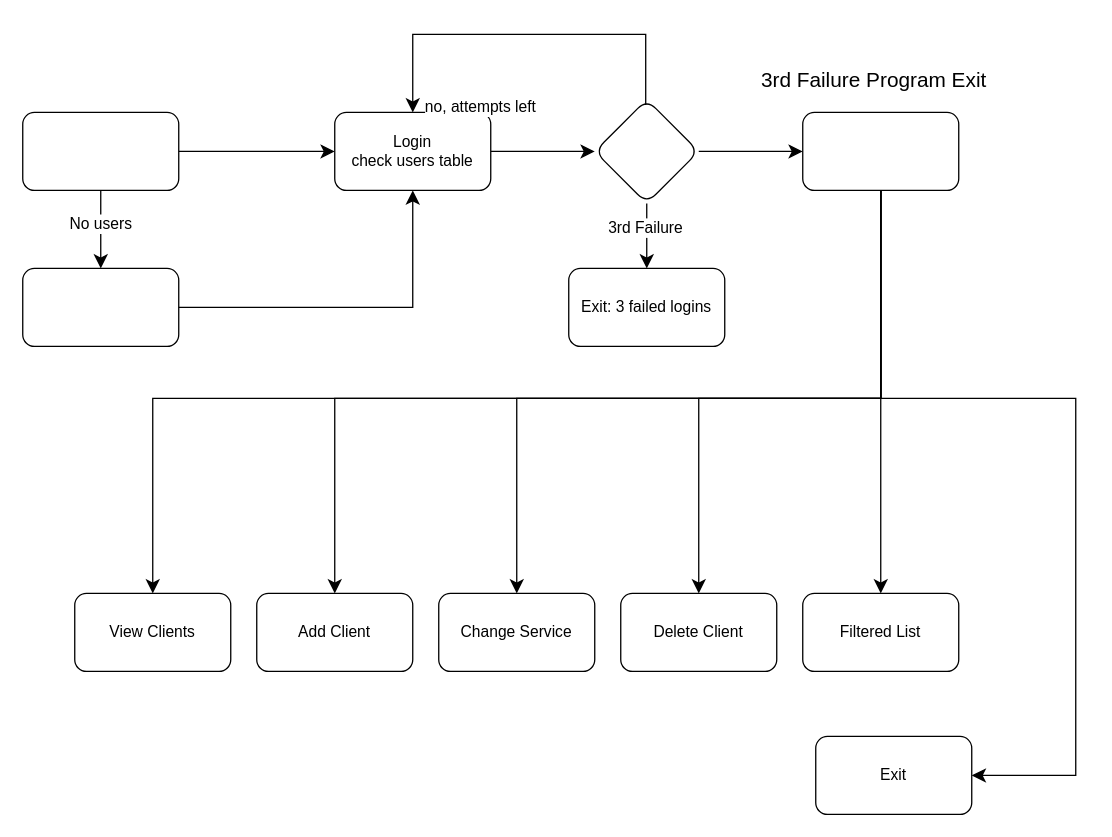
The diagram is 1112 pixels wide and 837 high, and some of its shapes have lost their labels. Each missing label, with the centre of its shape:
"Create First Account" belongs at (x=100, y=306).
"Login OK?" belongs at (x=646, y=150).
"Main Menu Loop until exit" belongs at (x=880, y=150).
"Open clients.db tables & seed data" belongs at (x=100, y=150).
